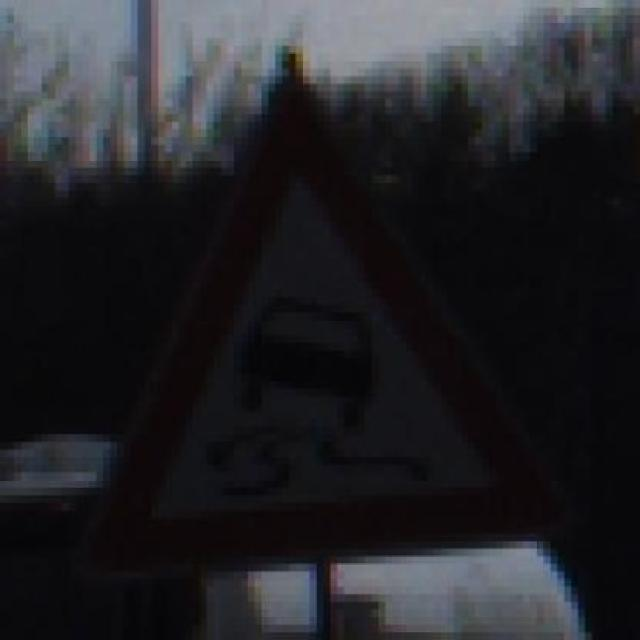Slippery Road Ahead: (62, 46, 550, 580)
